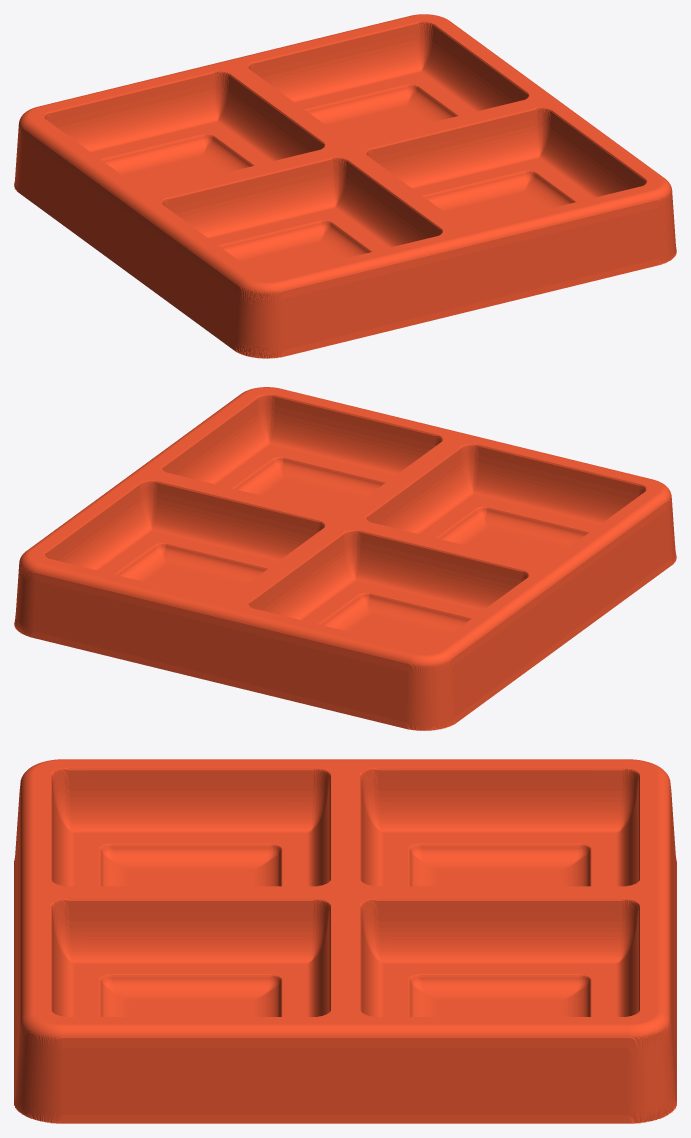
File: mold.glb
3 views of the same model, one above another, from view 1: azimuth 30°, elevation 25°; view 2: azimuth 150°, elevation 25°; view 3: azimuth 270°, elevation 25° (orthographic). The views are drawn at different scales.
Parts seen in each view (by area): view 1: geometry_0; view 2: geometry_0; view 3: geometry_0.
Part boxes in pixels (x1,y1,x2,y2): geometry_0: [14, 14, 676, 358]; geometry_0: [14, 387, 676, 730]; geometry_0: [14, 759, 676, 1123].
Size of the model in its own units: 0.1218 by 0.0185 by 0.1218.
